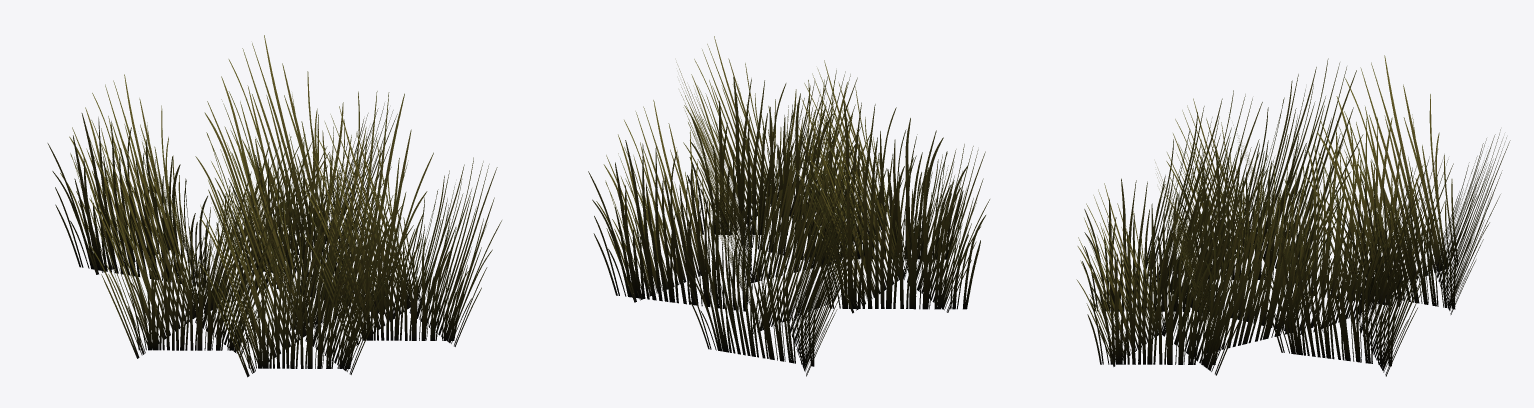
The model's file is scenery-3.glb.
3 renders of one model, left to right at view 1: azimuth 30°, elevation 25°; view 2: azimuth 150°, elevation 25°; view 3: azimuth 270°, elevation 25°, orthographic.
Size of the model in its own units: 5.74 by 2.71 by 6.09.
Materials: 1 (1 with a texture image).
